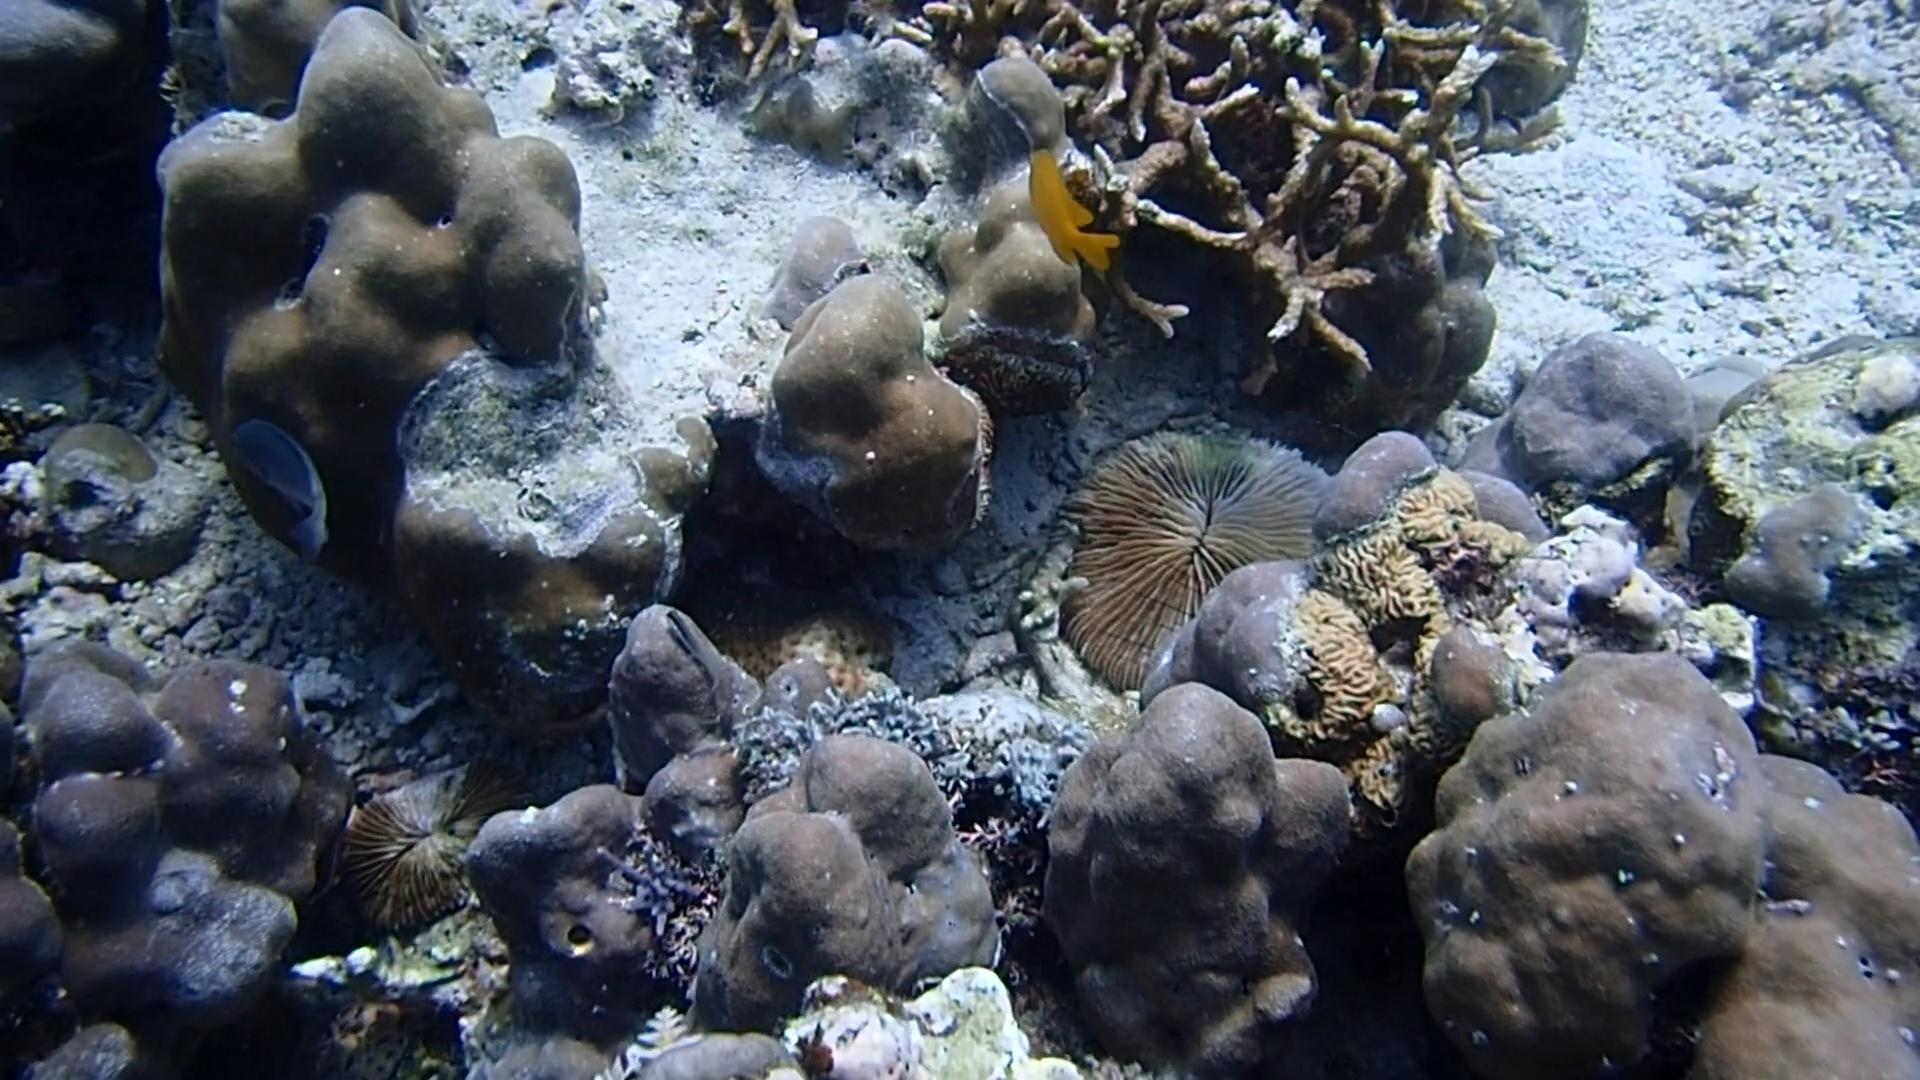Blue Fish Two: (223, 409, 348, 575)
Yellow Fish: (1013, 137, 1125, 289)
